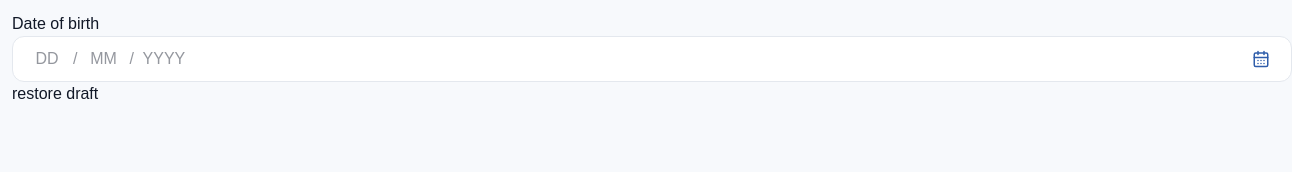
DateField — validation and read-back › a half-typed date is pointed out only after leaving the field
Type "14" into the field labelled "Date of birth" at (47, 59), box [25,37,69,81]
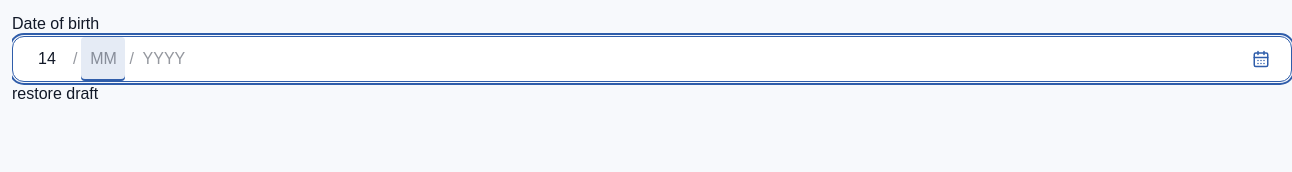
Expected: the text "Enter the day, the month and the year." is not shown
Press Tab
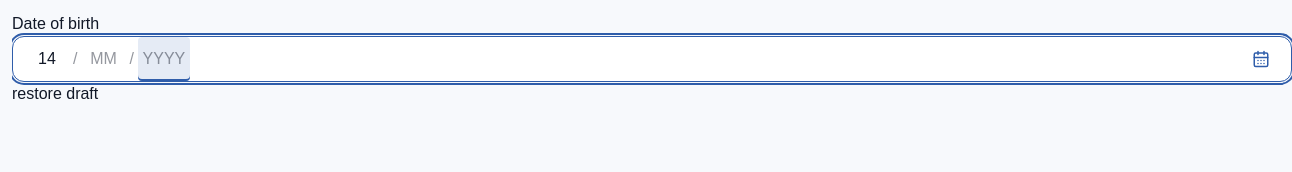
Expected: the text "Enter the day, the month and the year." is not shown
Click the element showing "Date of birth / / restore draft" at (652, 59), box [12,12,1291,106]
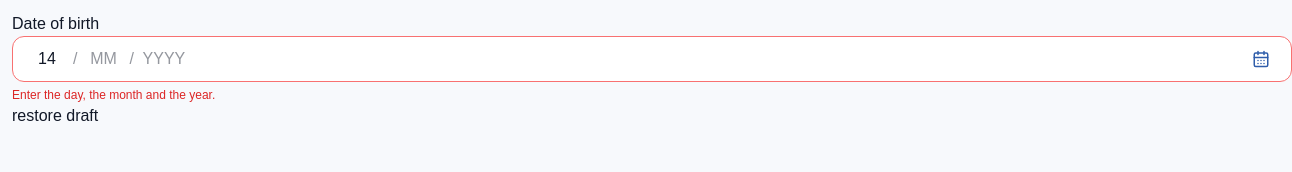
Now the text "Enter the day, the month and the year." is shown, box [12,88,215,102]
